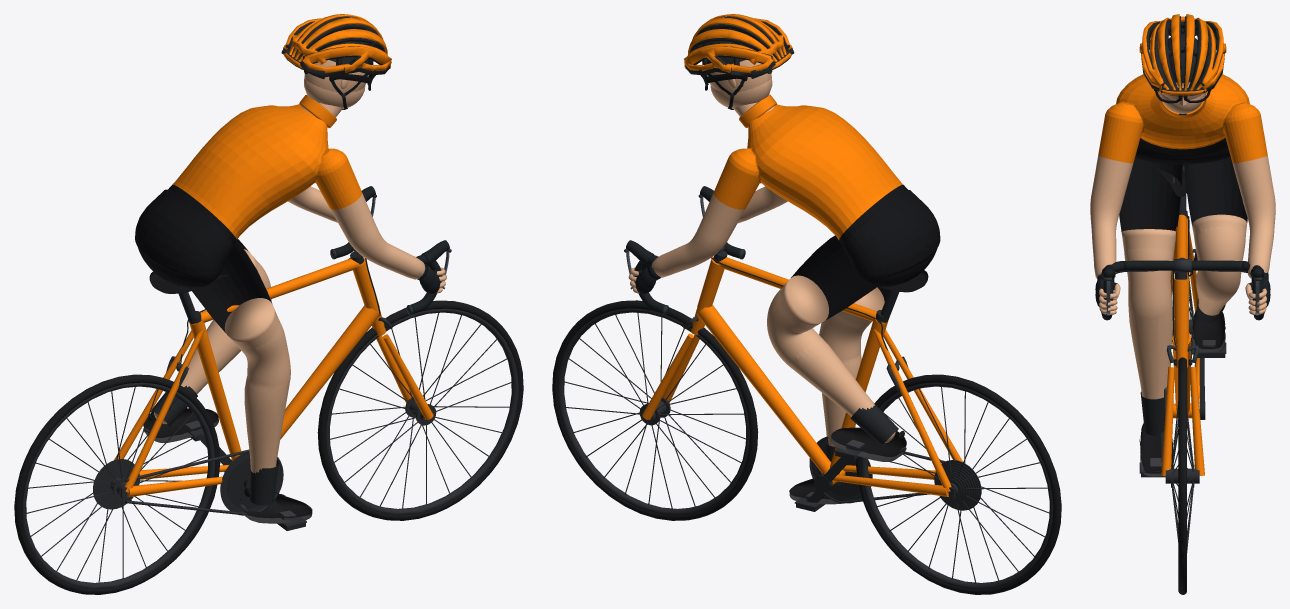
File: rider.glb
3 views of the same model, side by side, from view 1: azimuth 30°, elevation 25°; view 2: azimuth 150°, elevation 25°; view 3: azimuth 270°, elevation 25° (orthographic).
Parts seen in each view (by area): view 1: Rider anatomical torso shoulders and pelvis, Right continuous knee skin, Mesh_6, Mesh_0, Red aero shell - joined vented surface, Mesh_1, Mesh_7, Mesh_153, Mesh_21, Black EPS - joined vent supports and rim, Left continuous knee skin, Mesh_22 (+14 smaller); view 2: Rider anatomical torso shoulders and pelvis, Left continuous knee skin, Mesh_0, Mesh_6, Red aero shell - joined vented surface, Mesh_1, Mesh_21, Mesh_7, Right continuous knee skin, Mesh_163, Black EPS - joined vent supports and rim, Mesh_29 (+11 smaller); view 3: Rider anatomical torso shoulders and pelvis, Right continuous knee skin, Red aero shell - joined vented surface, Left continuous knee skin, Mesh_153, Mesh_163, Black EPS - joined vent supports and rim, Mesh_0, Handlebar central tops, Mesh_34, Mesh_33, Mesh_24 (+14 smaller).
Boxes of the visible parts, left/top/right/bottom form: Rider anatomical torso shoulders and pelvis: left=135, top=104, right=425, bottom=287; Right continuous knee skin: left=224, top=298, right=290, bottom=473; Mesh_6: left=14, top=374, right=220, bottom=594; Mesh_0: left=317, top=300, right=523, bottom=520; Red aero shell - joined vented surface: left=283, top=14, right=391, bottom=73; Mesh_1: left=326, top=308, right=518, bottom=515; Mesh_7: left=23, top=382, right=214, bottom=589; Mesh_153: left=189, top=241, right=272, bottom=333; Mesh_21: left=280, top=305, right=379, bottom=439; Black EPS - joined vent supports and rim: left=281, top=16, right=389, bottom=77; Left continuous knee skin: left=154, top=249, right=271, bottom=423; Mesh_22: left=189, top=320, right=241, bottom=460; Rider anatomical torso shoulders and pelvis: left=652, top=104, right=940, bottom=286; Left continuous knee skin: left=767, top=275, right=895, bottom=442; Mesh_0: left=552, top=300, right=758, bottom=520; Mesh_6: left=855, top=374, right=1061, bottom=594; Red aero shell - joined vented surface: left=684, top=14, right=792, bottom=73; Mesh_1: left=557, top=308, right=749, bottom=515; Mesh_21: left=697, top=305, right=830, bottom=473; Mesh_7: left=861, top=382, right=1053, bottom=589; Right continuous knee skin: left=819, top=287, right=884, bottom=446; Mesh_163: left=791, top=235, right=877, bottom=319; Black EPS - joined vent supports and rim: left=684, top=16, right=794, bottom=77; Mesh_29: left=873, top=329, right=951, bottom=492; Rider anatomical torso shoulders and pelvis: left=1090, top=74, right=1275, bottom=278; Right continuous knee skin: left=1121, top=229, right=1175, bottom=399; Red aero shell - joined vented surface: left=1139, top=14, right=1226, bottom=95; Left continuous knee skin: left=1192, top=214, right=1247, bottom=315; Mesh_153: left=1119, top=157, right=1182, bottom=231; Mesh_163: left=1184, top=156, right=1247, bottom=224; Black EPS - joined vent supports and rim: left=1141, top=16, right=1224, bottom=95; Mesh_0: left=1178, top=357, right=1186, bottom=594; Handlebar central tops: left=1122, top=260, right=1243, bottom=270; Mesh_34: left=1189, top=367, right=1204, bottom=475; Mesh_33: left=1161, top=367, right=1174, bottom=476; Mesh_24: left=1174, top=278, right=1189, bottom=338.
Bounding box in the file's own units: 1.67 × 1.63 × 0.5229.
